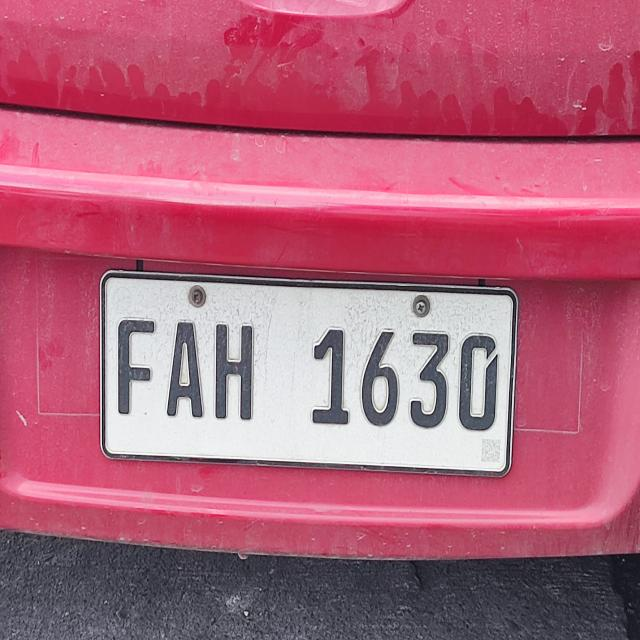plate: (97, 267, 520, 481)
